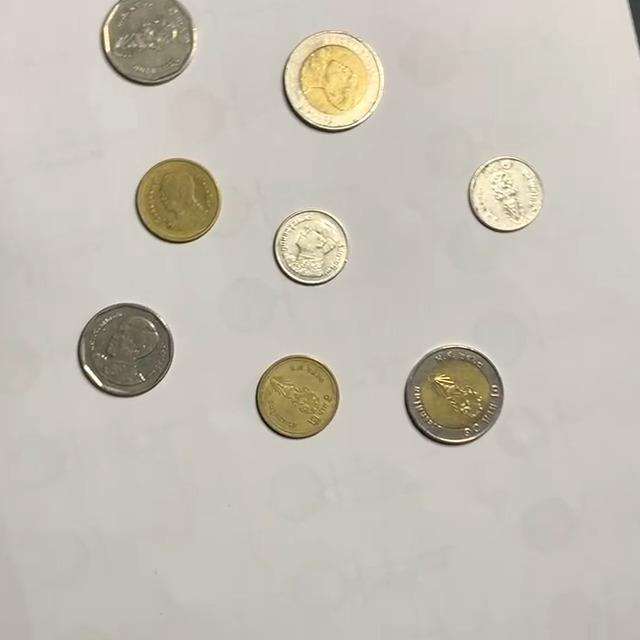1-baht: (274, 209, 352, 286), (468, 156, 545, 231)
10-baht: (283, 30, 385, 131), (404, 345, 506, 445)
2-baht: (135, 157, 222, 243), (256, 355, 341, 439)
5-baht: (78, 303, 175, 397), (101, 0, 198, 86)
